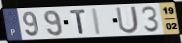3: (141, 5, 160, 33)
9: (42, 9, 64, 37), (21, 11, 40, 37)
I: (90, 7, 103, 36)
T: (69, 9, 88, 35)
U: (115, 5, 141, 35)
